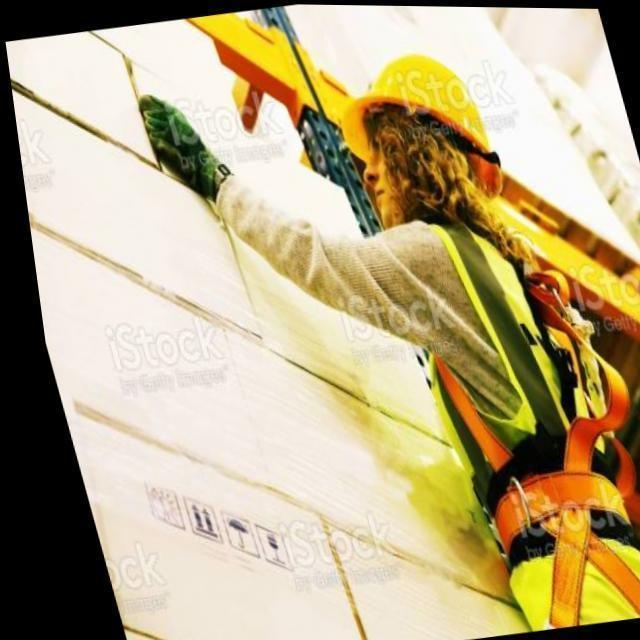Arnes_seguridad: (415, 242, 640, 563)
